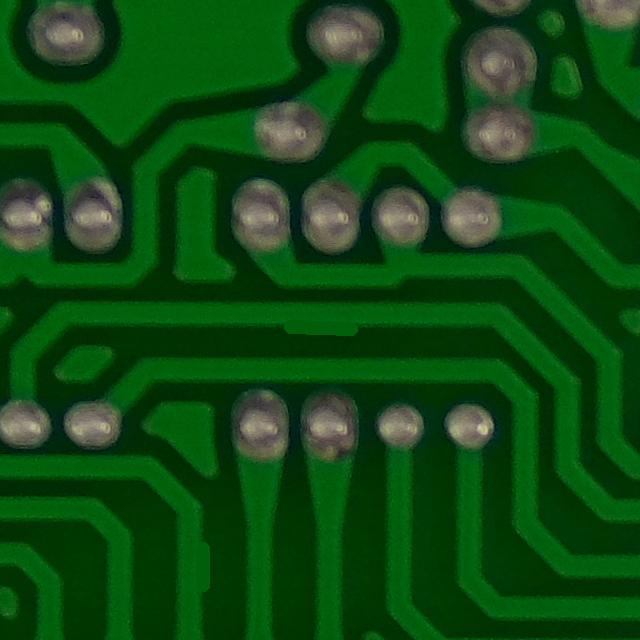spur: (270, 287, 370, 354)
